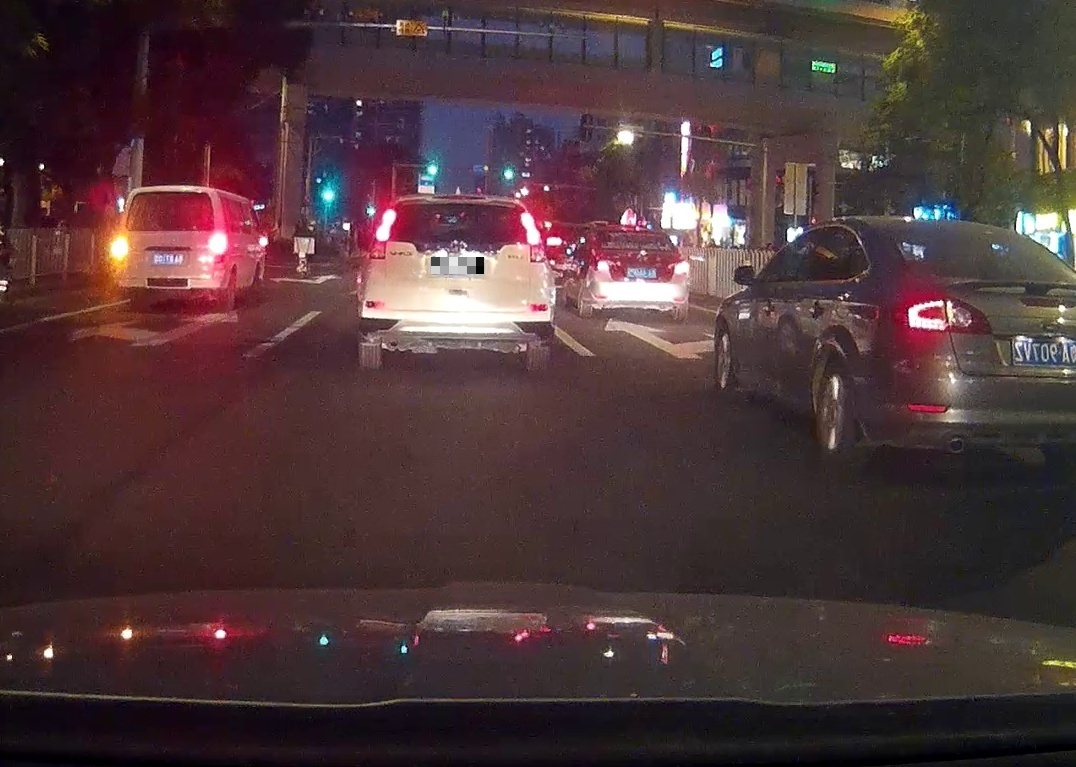L_light: (368, 209, 395, 259), (112, 234, 127, 266), (597, 260, 610, 272)
R_light: (519, 211, 547, 263), (211, 232, 226, 263), (674, 260, 689, 274)
T_light: (448, 203, 472, 212), (160, 192, 182, 200), (627, 232, 644, 238)
night-left: (110, 185, 227, 312)
night-no: (356, 193, 554, 369), (596, 227, 690, 320)
plate_1: (431, 257, 484, 274)
